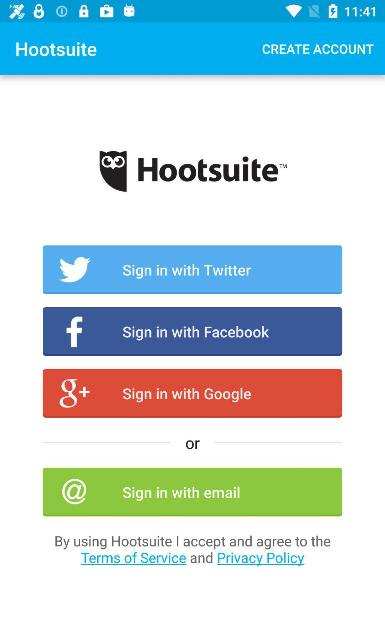Icon: (59, 378, 89, 408), (60, 257, 91, 283), (62, 478, 86, 504), (67, 317, 83, 347)
Image: (99, 150, 286, 192)
Text: (55, 535, 330, 565), (123, 264, 251, 280), (123, 326, 269, 340), (123, 486, 239, 502), (123, 388, 251, 402), (262, 44, 374, 54), (16, 42, 96, 56), (186, 439, 200, 448)
TextImageButton: (43, 368, 342, 418), (42, 307, 342, 355), (43, 468, 342, 516), (43, 246, 342, 294)
Toolbar: (0, 23, 384, 75)
UpperTaskBar: (0, 0, 384, 22)
